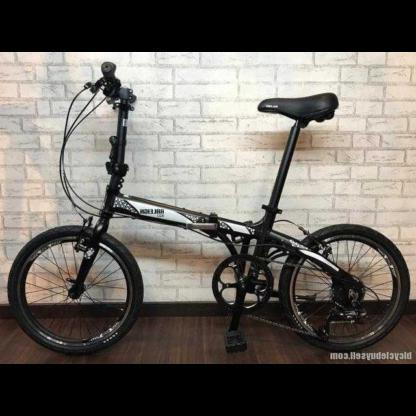Bicycle: (0, 49, 414, 354)
